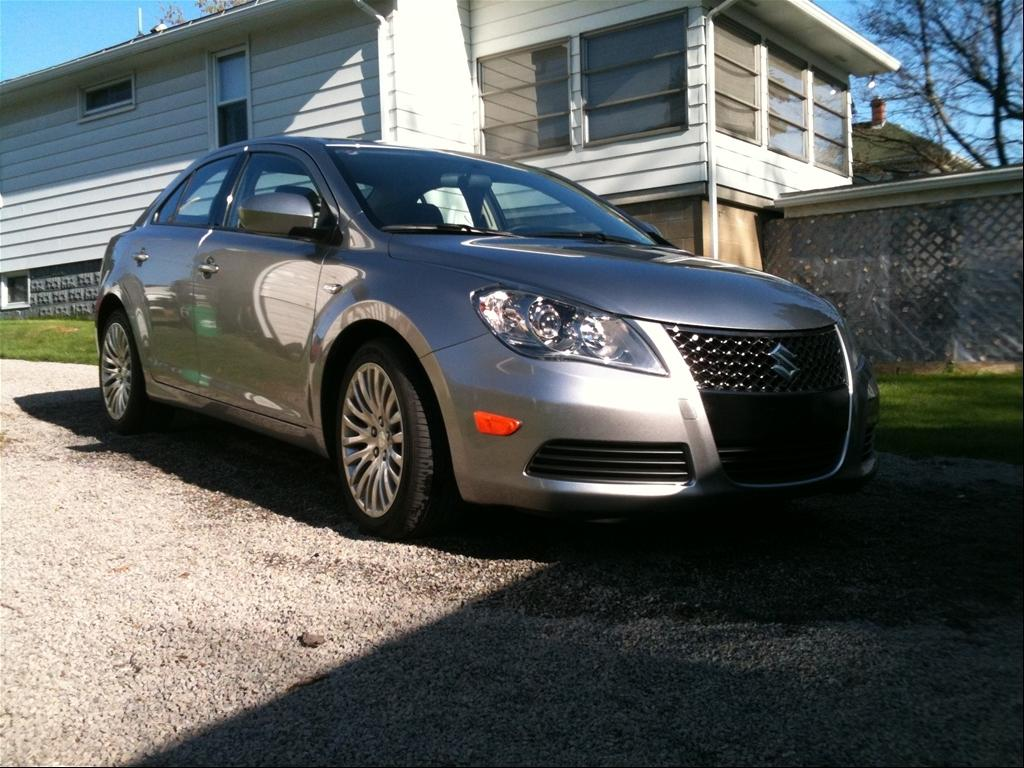suzuki: (762, 335, 805, 382)
